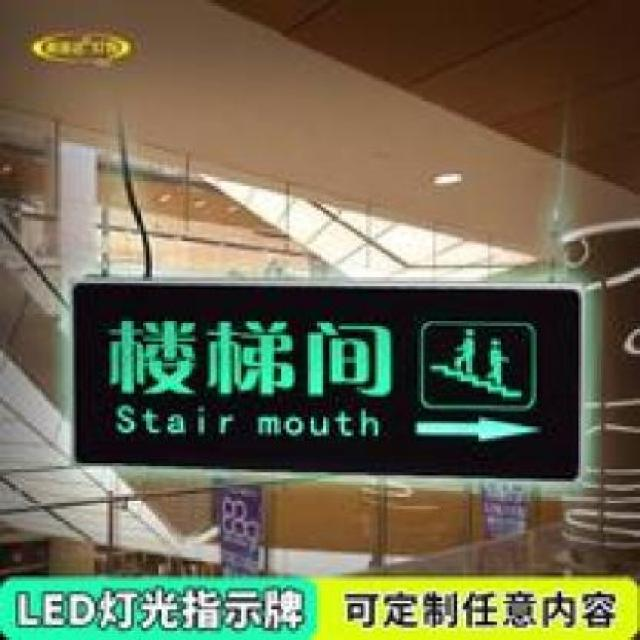exit_sign: (62, 263, 596, 489)
